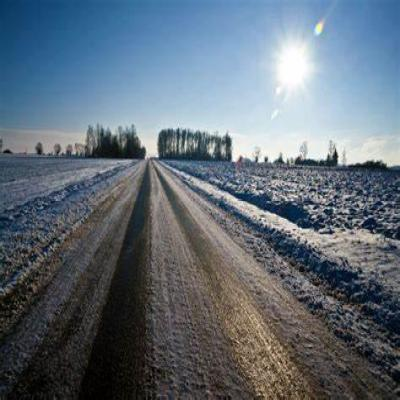iced-road: (0, 162, 379, 400)
